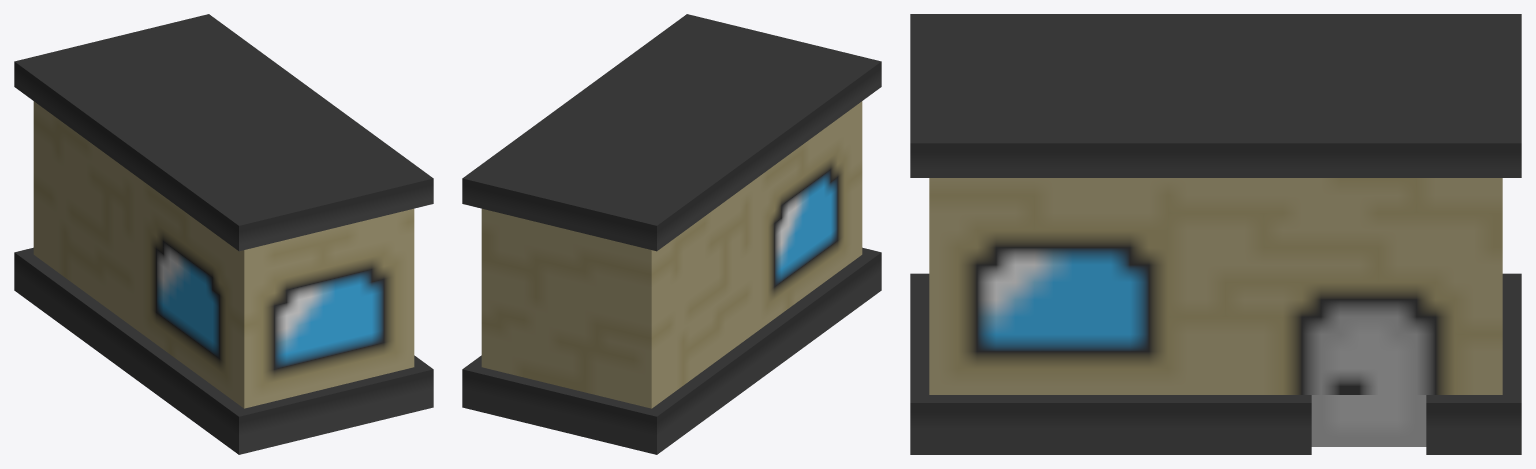
The model's file is Small_KPP_0.fbx.
3 renders of one model, left to right at view 1: azimuth 30°, elevation 25°; view 2: azimuth 150°, elevation 25°; view 3: azimuth 270°, elevation 25°, orthographic. The views are drawn at different scales.
Visible parts, largest first — view 1: Matrix_1; view 2: Matrix_1; view 3: Matrix_1.
Boxes of the visible parts, x1=… form: Matrix_1: x1=14, y1=14, x2=433, y2=454; Matrix_1: x1=462, y1=14, x2=881, y2=454; Matrix_1: x1=910, y1=14, x2=1521, y2=454.
Bounding box in the file's own units: 16 × 18 × 32.
